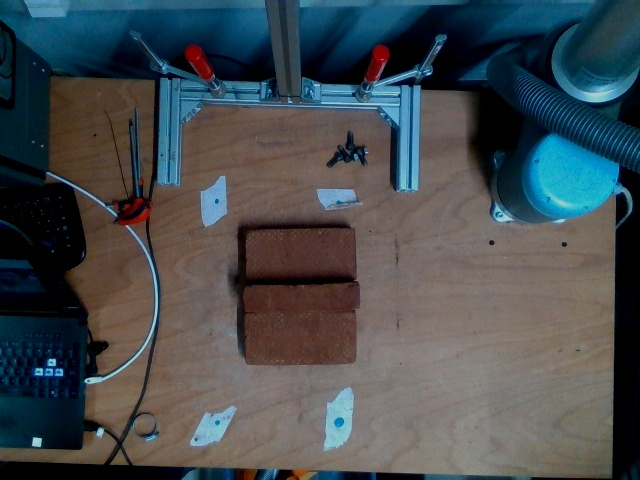brick: (243, 227, 355, 283), (245, 314, 355, 365)
brick-side: (243, 282, 362, 316)
